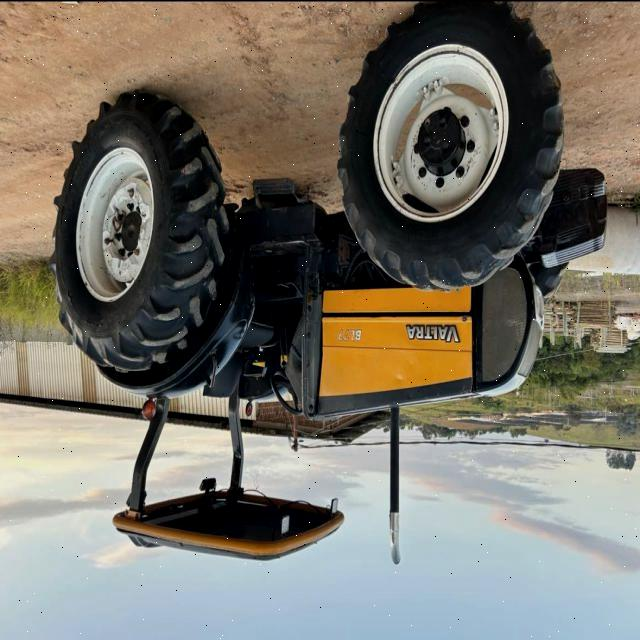Tratores - v5 YOLO V8L 2024-11-13: (55, 0, 607, 579)
